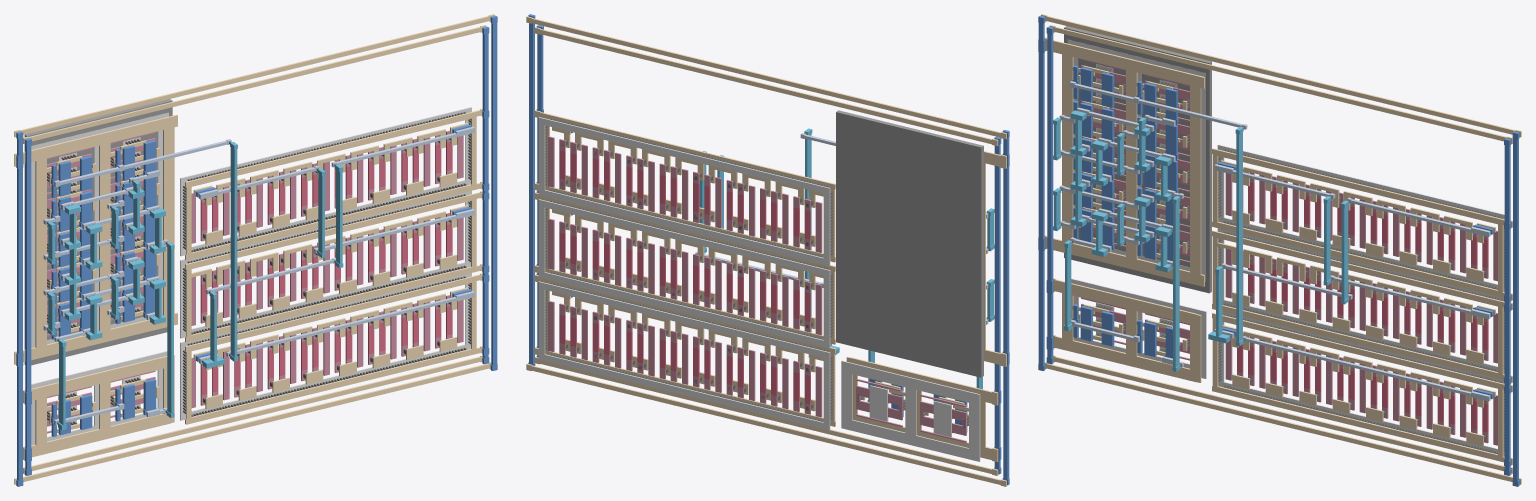
Rendered from single_stage_OTA.gds.gltf.
3 views of the same model, side by side, from view 1: azimuth 30°, elevation 25°; view 2: azimuth 150°, elevation 25°; view 3: azimuth 330°, elevation 25° (orthographic).
Parts seen in each view (by area): view 1: OTA_li1, LELOTR_RPPO16_li1 (×3), LELOTR_RES16_poly (×3), LELOTR_RES16_li1 (×3), OTA_met3, OTA_met1, LELOTR_RES16_xpolyres (×3), OTA_met2, LELOATR_PCH_4C5F0_met1 (×10), LELOATR_PCH_4C5F0_li1 (×9), LELOTR_RPPO16_diff (×3), LELOTR_RPPO16_licon (×3) (+7 smaller); view 2: LELOATR_PCH_4C5F0_nwell (×10), LELOTR_RES16_poly (×3), LELOTR_RPPO16_diff (×3), OTA_li1, LELOTR_RES16_xpolyres (×3), LELOTR_RES16_li1 (×3), OTA_met1, LELOTR_RPPO16_li1 (×3), LELOATR_PCH_4CTAPTOP_nwell (×2), LELOTR_RPPO16_licon (×3), LELOATR_PCH_4CTAPBOT_nwell (×2), LELOATR_NCH_4C5F0_diff (×2) (+6 smaller); view 3: OTA_li1, LELOTR_RES16_li1 (×3), LELOTR_RES16_poly (×3), OTA_met3, LELOTR_RPPO16_li1 (×3), OTA_met1, LELOTR_RES16_xpolyres (×3), OTA_met2, LELOATR_PCH_4C5F0_li1 (×10), LELOATR_PCH_4C5F0_met1 (×10), LELOTR_RPPO16_diff (×3), LELOTR_RPPO16_licon (×3) (+9 smaller).
Boxes of the visible parts, x1,y1,x2,y2 form: OTA_li1: (14,14,494,484); LELOTR_RPPO16_li1 (×3): (186,112,476,423); LELOTR_RES16_poly (×3): (191,130,463,407); LELOTR_RES16_li1 (×3): (195,125,467,409); OTA_met3: (47,142,343,430); OTA_met1: (16,15,497,486); LELOTR_RES16_xpolyres (×3): (200,142,452,394); OTA_met2: (43,127,474,425); LELOATR_PCH_4C5F0_met1 (×10): (51,140,156,339); LELOATR_PCH_4C5F0_li1 (×9): (35,132,174,344); LELOTR_RPPO16_diff (×3): (180,107,471,420); LELOTR_RPPO16_licon (×3): (183,112,470,416); LELOATR_PCH_4C5F0_nwell (×10): (836,133,983,355); LELOTR_RES16_poly (×3): (548,136,822,417); LELOTR_RPPO16_diff (×3): (538,117,830,430); OTA_li1: (526,16,1006,486); LELOTR_RES16_xpolyres (×3): (559,150,810,403); LELOTR_RES16_li1 (×3): (552,127,822,411); OTA_met1: (528,14,1009,485); LELOTR_RPPO16_li1 (×3): (544,115,835,425); LELOATR_PCH_4CTAPTOP_nwell (×2): (836,110,983,179); LELOTR_RPPO16_licon (×3): (545,118,832,421); LELOATR_PCH_4CTAPBOT_nwell (×2): (836,321,983,377); LELOATR_NCH_4C5F0_diff (×2): (841,375,980,447); OTA_li1: (1041,14,1521,484); LELOTR_RES16_li1 (×3): (1227,166,1494,446); LELOTR_RES16_poly (×3): (1225,169,1497,445); OTA_met3: (1053,110,1348,371); LELOTR_RPPO16_li1 (×3): (1212,154,1503,461); OTA_met1: (1038,15,1519,486); LELOTR_RES16_xpolyres (×3): (1237,180,1488,432); OTA_met2: (1059,81,1490,401); LELOATR_PCH_4C5F0_li1 (×10): (1062,58,1201,271); LELOATR_PCH_4C5F0_met1 (×10): (1073,65,1177,261); LELOTR_RPPO16_diff (×3): (1217,144,1504,456); LELOTR_RPPO16_licon (×3): (1218,149,1504,454).
Bounding box in the file's own units: 56.79 × 39.94 × 4.13.
